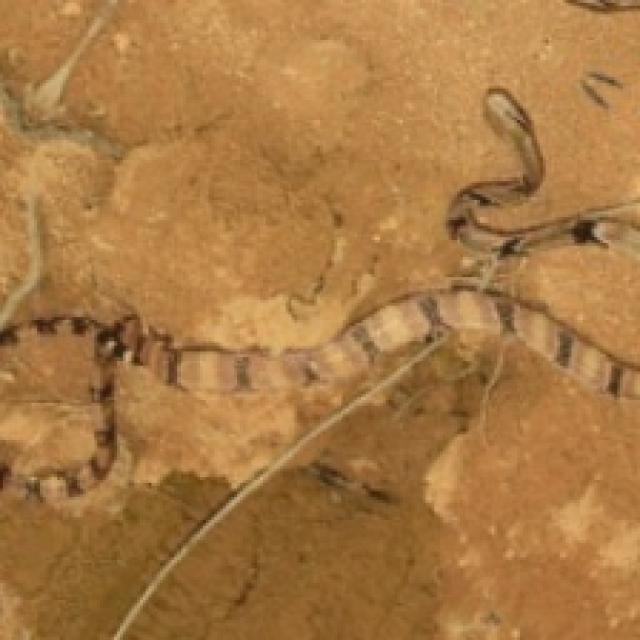dog-toothed cat snake: (0, 88, 640, 499)
